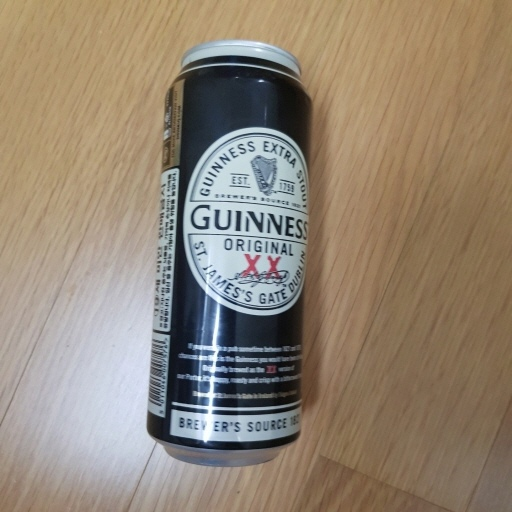Metal_0: (141, 35, 308, 467)
